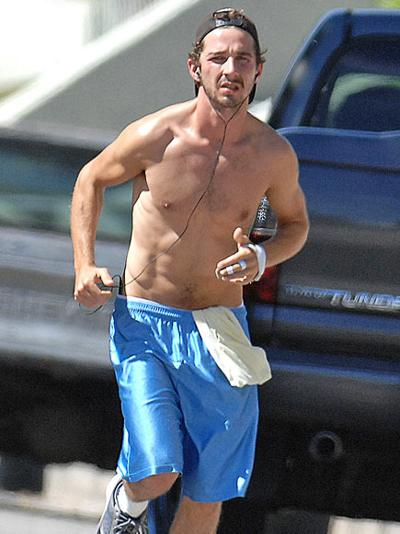person: (70, 11, 311, 534)
